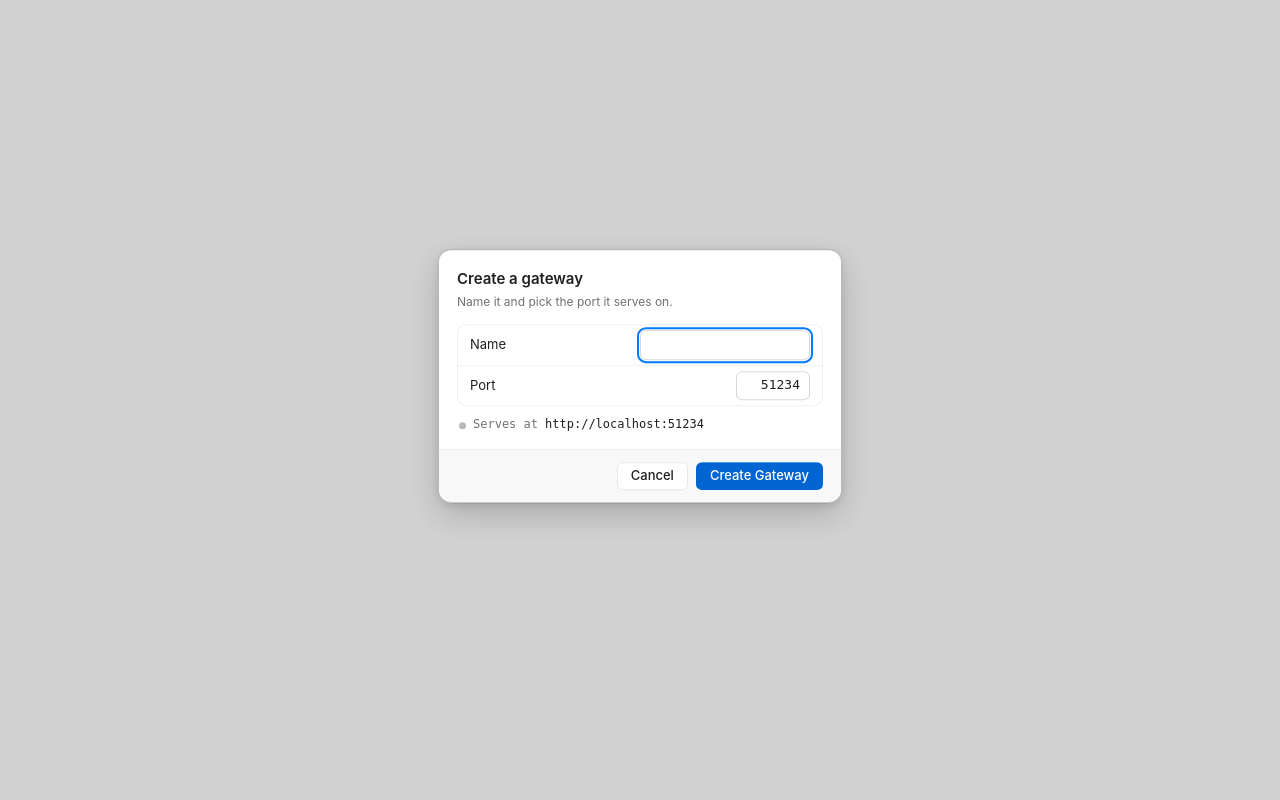
Scenario: a refusal neither field owns stands in the sheet, carrying what refused it
Expected: the dialog "Create a gateway" is shown, [438,249,842,503]
Type "Codex" into the field labelled "Name". click: (725, 345)
box: [640,330,810,360]
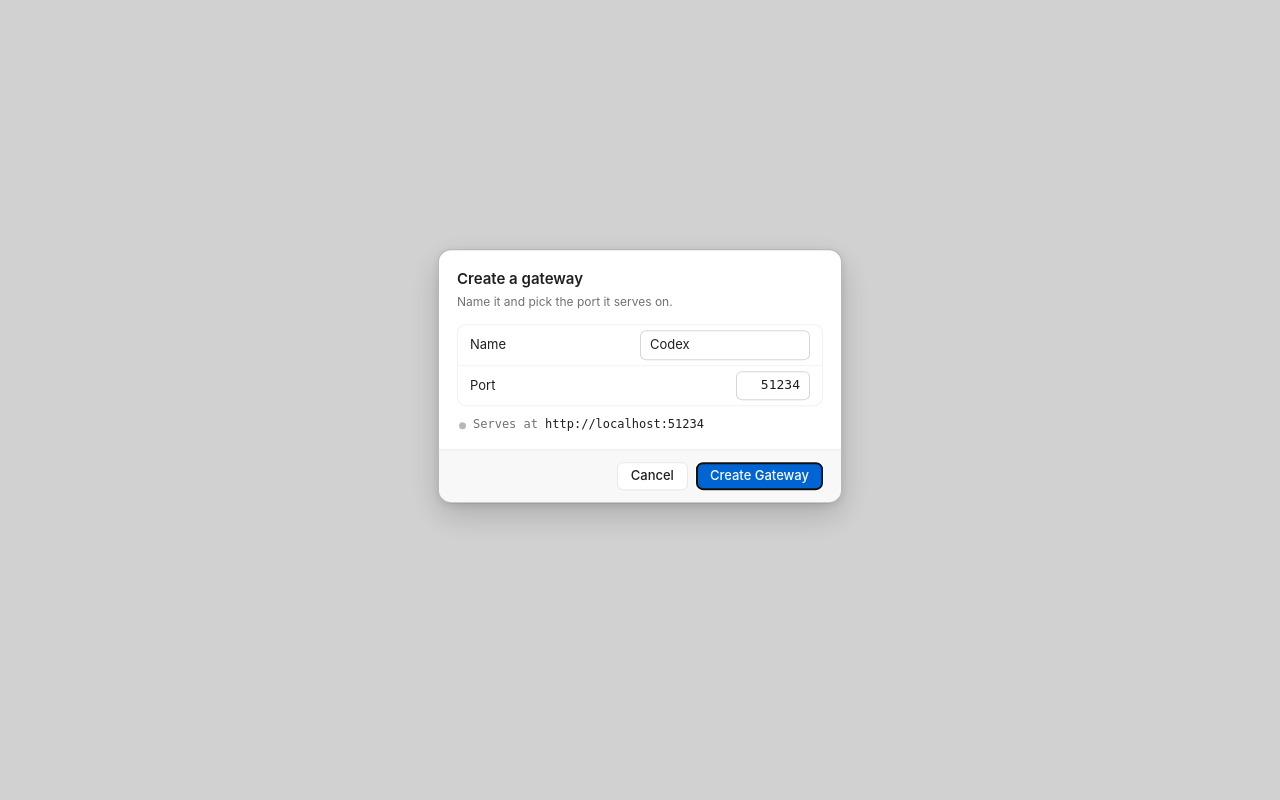
Press Enter
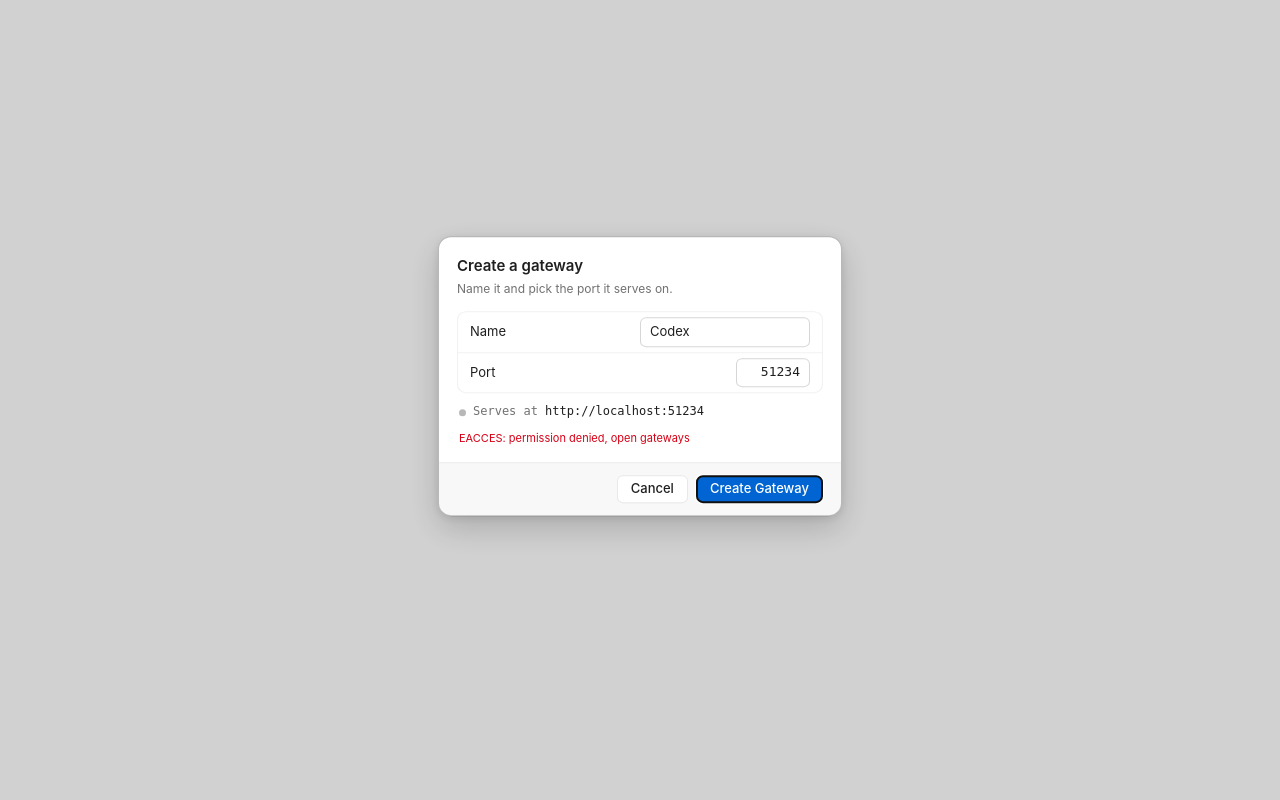
Expected: the dialog "Create a gateway" is shown, [438,236,842,516]
Expected: the message reads "EACCES: permission denied, open gateways", [459,431,690,445]
